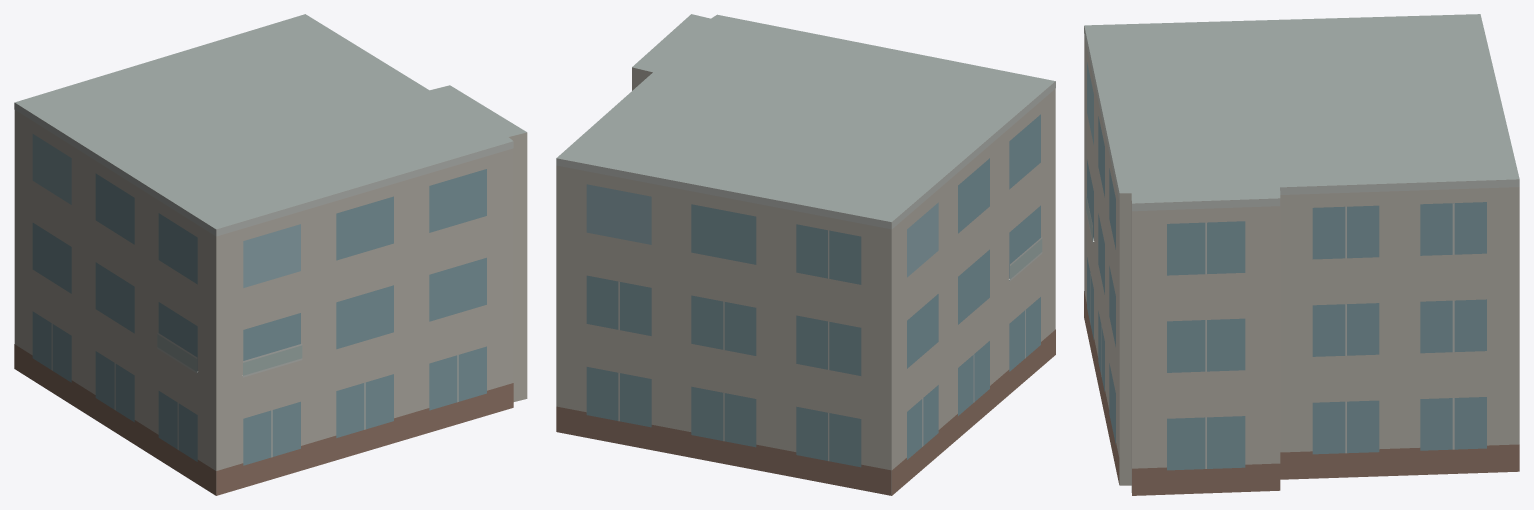
Rendered from survey-upis-32582488.glb.
3 renders of one model, left to right at view 1: azimuth 30°, elevation 25°; view 2: azimuth 150°, elevation 25°; view 3: azimuth 270°, elevation 25°, orthographic. The views are drawn at different scales.
Visible parts, largest first — view 1: survey-upis-32582488.tmp; view 2: survey-upis-32582488.tmp; view 3: survey-upis-32582488.tmp.
Boxes of the visible parts, x1,y1,x2,y2 form: survey-upis-32582488.tmp: (14,14,527,495); survey-upis-32582488.tmp: (556,14,1055,495); survey-upis-32582488.tmp: (1084,14,1519,495).
Size of the model in its own units: 12.73 by 9.15 by 12.37.
